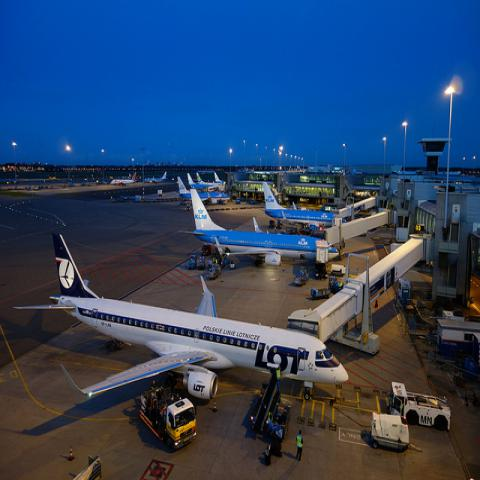truck: (136, 383, 197, 451), (387, 380, 451, 431), (331, 264, 346, 277), (201, 243, 212, 256), (187, 255, 197, 269), (199, 256, 205, 268)
